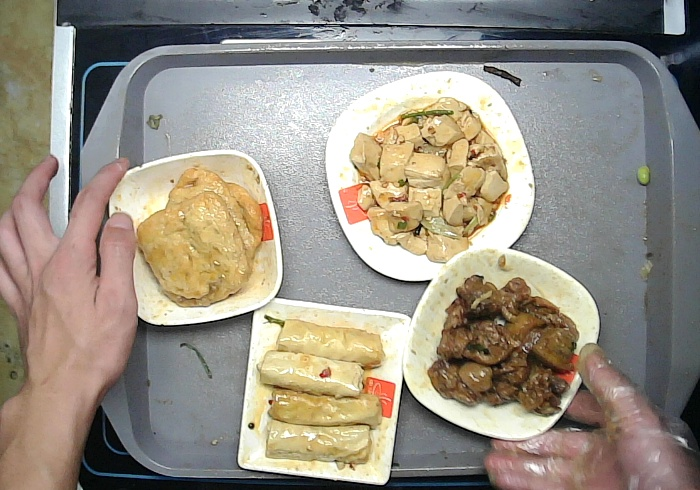SHKJ-Bai_Se_Cai_Die: (399, 245, 603, 443)
SHKJ-Bai_Se_Si_Fang_Cai_Die: (320, 66, 538, 286)
SHKJ-Bai_Se_Xiao_Fang_Die: (102, 146, 287, 329)
SHKJ-Si_Fang_Min: (235, 295, 413, 486)
